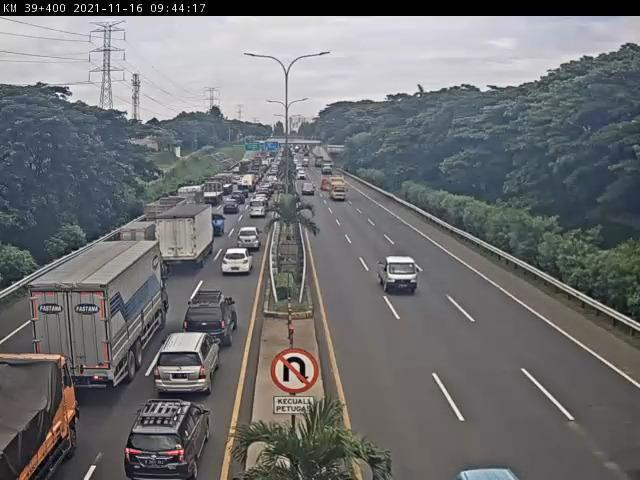car: (129, 395, 214, 480), (163, 329, 224, 401), (186, 289, 245, 347), (380, 256, 422, 295), (217, 248, 259, 275), (236, 225, 263, 257), (204, 215, 227, 237), (302, 181, 317, 197), (196, 328, 199, 332)
truck: (29, 241, 170, 394), (1, 351, 91, 480), (157, 203, 214, 271), (122, 216, 157, 242), (201, 182, 226, 205), (214, 175, 234, 196)
